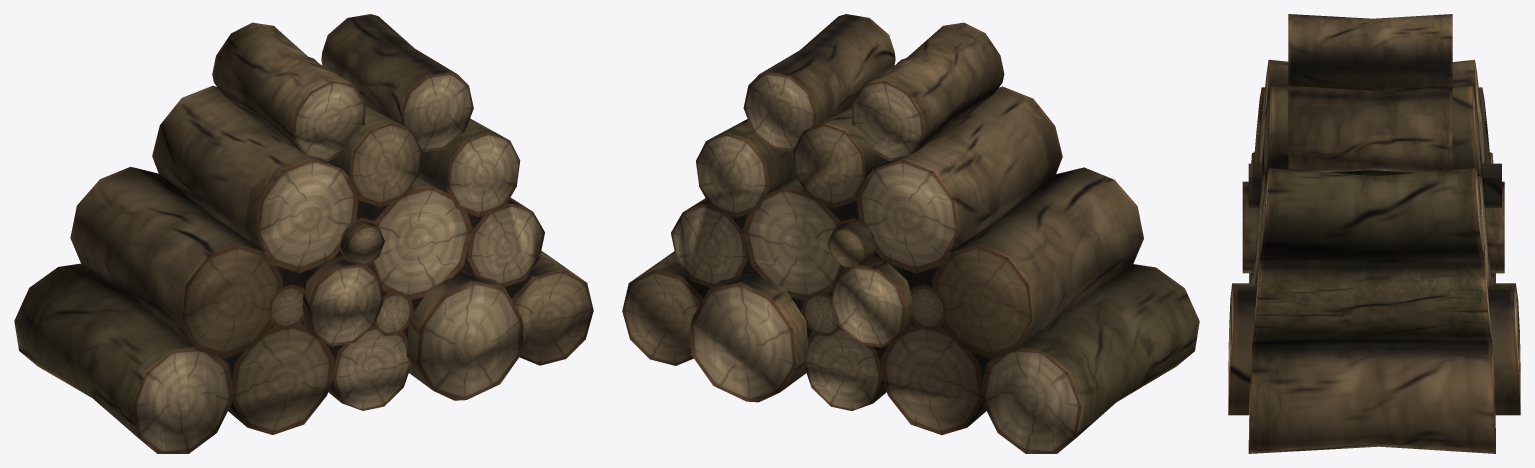
File: TreeLogPile.fbx
3 views of the same model, side by side, from view 1: azimuth 30°, elevation 25°; view 2: azimuth 150°, elevation 25°; view 3: azimuth 270°, elevation 25° (orthographic). The views are drawn at different scales.
Visible parts, largest first — view 1: Mesh; view 2: Mesh; view 3: Mesh.
Part boxes in pixels (x1,y1,x2,y2): Mesh: (14,14,593,453); Mesh: (622,14,1199,453); Mesh: (1228,14,1520,453).
Bounding box in the file's own units: 150 × 101 × 79.85.
Materials: 1 (1 with a texture image).
